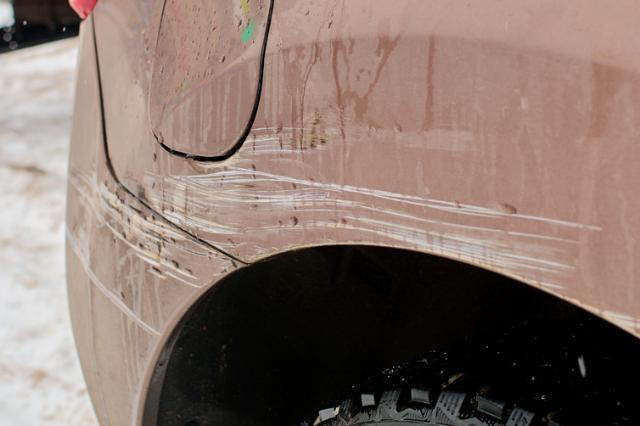Bumper: (62, 153, 195, 339)
Fender: (165, 120, 637, 282)
